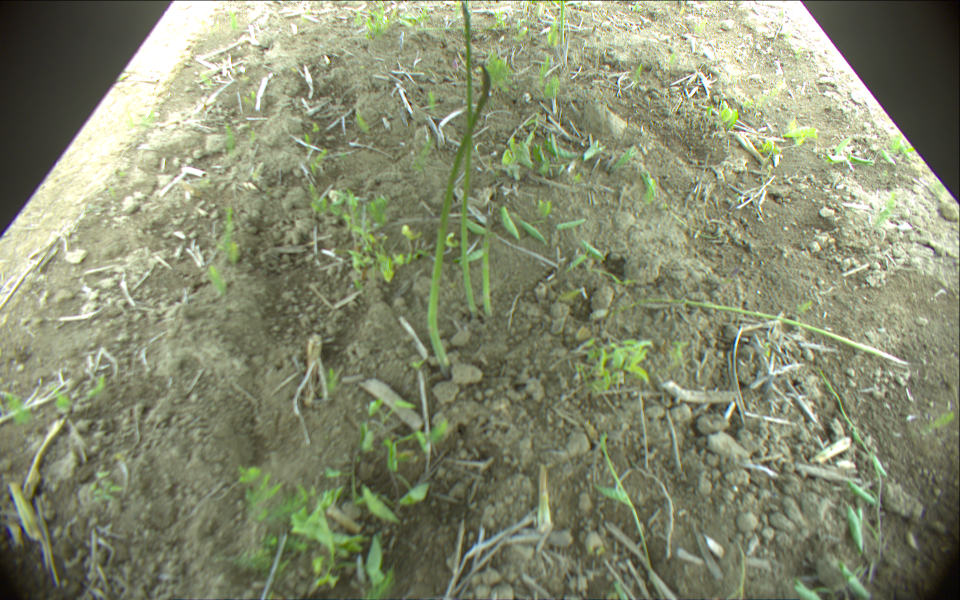aspa: (614, 296, 908, 365), (428, 64, 491, 373), (461, 2, 478, 311), (481, 205, 496, 319), (558, 1, 566, 45)
